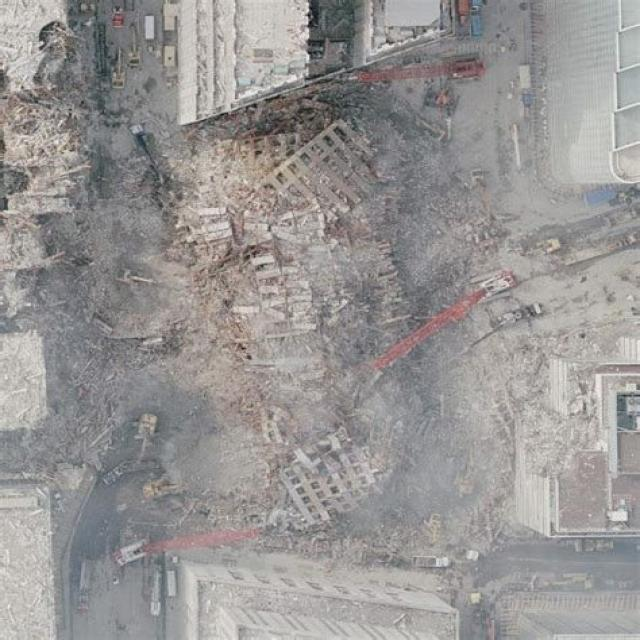collapsed_building: (155, 155, 405, 536), (1, 0, 84, 324)
